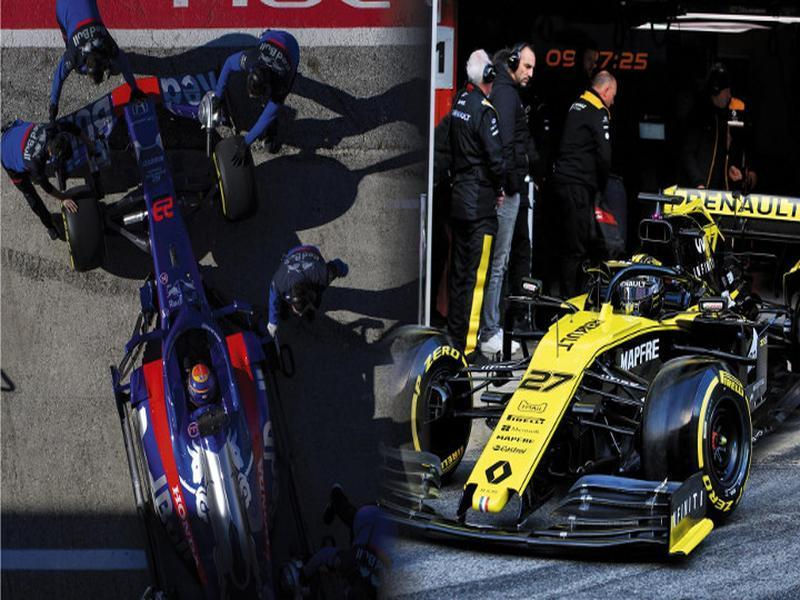f1: (397, 215, 800, 542)
